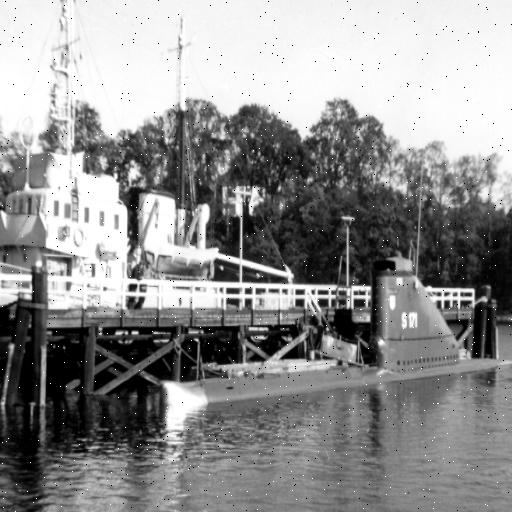submarine: (208, 272, 512, 415)
